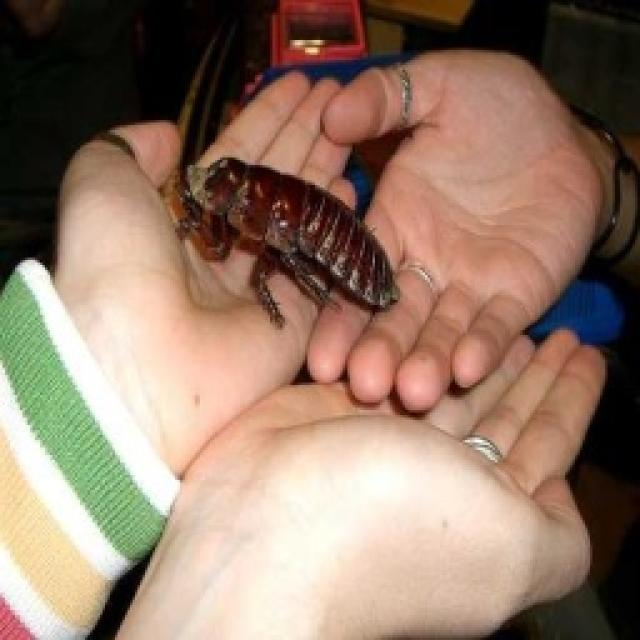cockroach: (170, 152, 404, 330)
